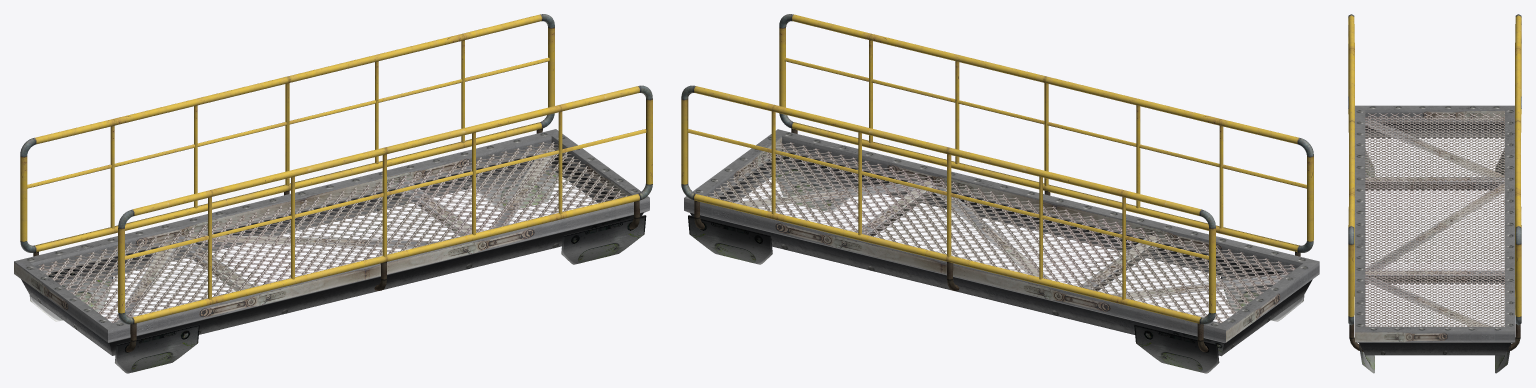
File: FLO_Walkway_Grills_5m.FBX
The picture shows the model from 3 angles, left to right: view 1: azimuth 30°, elevation 25°; view 2: azimuth 150°, elevation 25°; view 3: azimuth 270°, elevation 25°; orthographic projection. The views are drawn at different scales.
Parts seen in each view (by area): view 1: FLO_Walkway_Grills_5m_Floor, FLO_Walkway_Grills_5m_Banister; view 2: FLO_Walkway_Grills_5m_Floor, FLO_Walkway_Grills_5m_Banister; view 3: FLO_Walkway_Grills_5m_Floor, FLO_Walkway_Grills_5m_Banister.
Part boxes in pixels (x1,y1,x2,y2): FLO_Walkway_Grills_5m_Floor: [14, 129, 649, 373]; FLO_Walkway_Grills_5m_Banister: [20, 14, 652, 352]; FLO_Walkway_Grills_5m_Floor: [684, 129, 1319, 373]; FLO_Walkway_Grills_5m_Banister: [681, 14, 1313, 352]; FLO_Walkway_Grills_5m_Floor: [1355, 105, 1515, 373]; FLO_Walkway_Grills_5m_Banister: [1348, 14, 1521, 351].
Size of the model in its own units: 484 by 150 by 157.
Materials: 2 (2 with a texture image).
